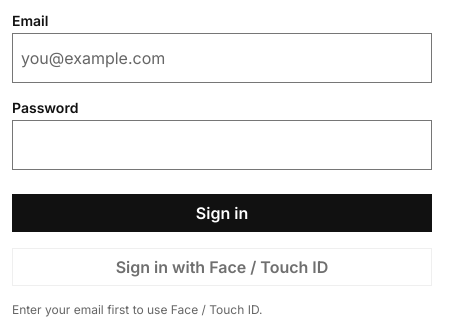
Test: LoginForm › maps a 401 to an "Incorrect email or password" message
Type "a@b.com" into the field with placeholder "you@example.com".
click(222, 58); type("a@b.com")  # box left=12, top=33, right=432, bottom=83
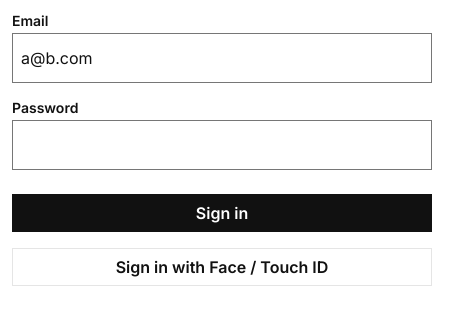
Type "wrong" into the password field labelled "Password".
click(222, 145); type("wrong")  # box left=12, top=120, right=432, bottom=170
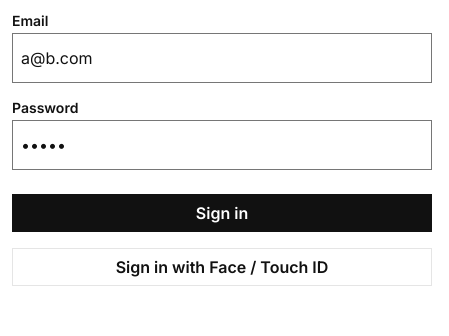
Click the button "Sign in".
click(222, 213)  # box left=12, top=194, right=432, bottom=232
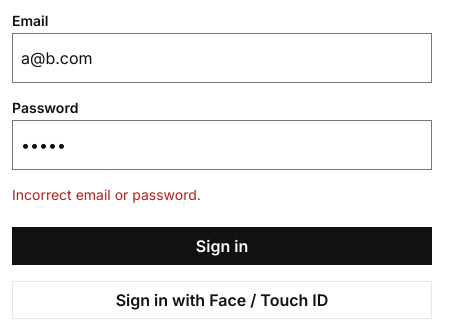
Result: the message shows "Incorrect email or password" at left=12, top=186, right=201, bottom=203
